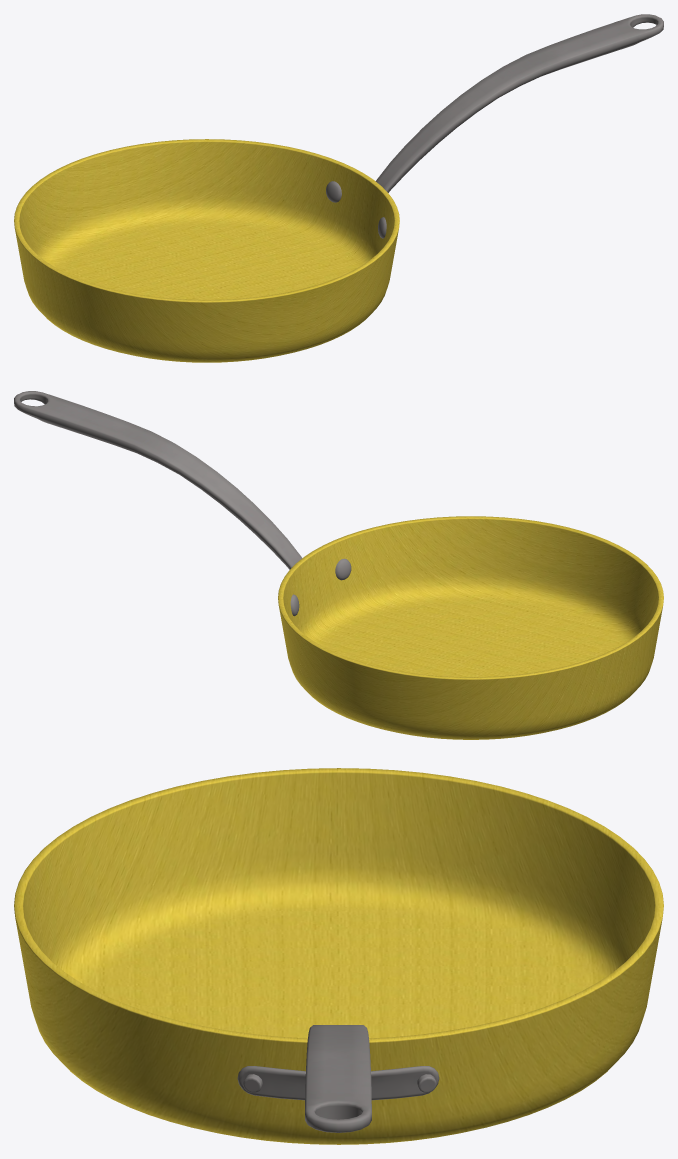
Rendered from padella34.glb.
The picture shows the model from 3 angles, top to bottom: view 1: azimuth 30°, elevation 25°; view 2: azimuth 150°, elevation 25°; view 3: azimuth 270°, elevation 25°; orthographic projection. The views are drawn at different scales.
Parts seen in each view (by area): view 1: contemporary_cookware_frying_pan_YBK2_FQ; view 2: contemporary_cookware_frying_pan_YBK2_FQ; view 3: contemporary_cookware_frying_pan_YBK2_FQ.
Part boxes in pixels (bbox=[...]): contemporary_cookware_frying_pan_YBK2_FQ: bbox=[14, 14, 663, 362]; contemporary_cookware_frying_pan_YBK2_FQ: bbox=[14, 391, 663, 739]; contemporary_cookware_frying_pan_YBK2_FQ: bbox=[14, 768, 663, 1144].
Bounding box in the file's own units: 59.34 × 15.05 × 31.91.
2 materials, 2 textured.
